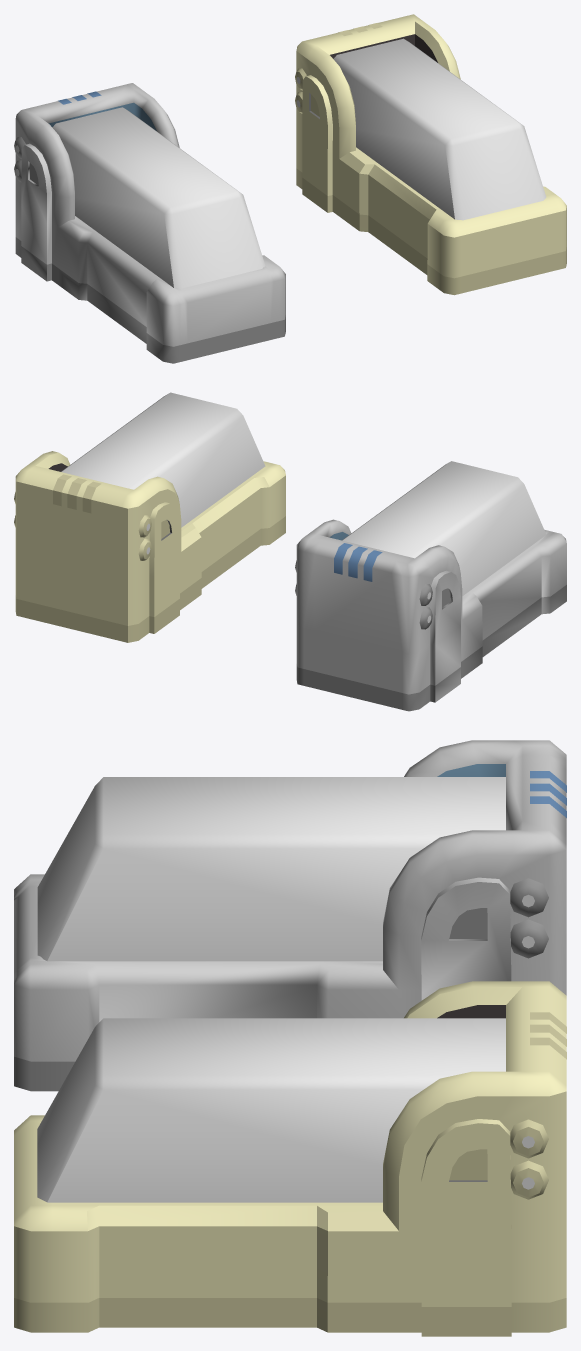
File: SleeperBed.fbx
3 renders of one model, top to bottom at view 1: azimuth 30°, elevation 25°; view 2: azimuth 150°, elevation 25°; view 3: azimuth 270°, elevation 25°, orthographic. The views are drawn at different scales.
Parts seen in each view (by area): view 1: SleeperBlue, SleeperGreen, SleeperGreenCover, SleeperBlueCover; view 2: SleeperGreen, SleeperBlue, SleeperGreenCover, SleeperBlueCover; view 3: SleeperGreen, SleeperGreenCover, SleeperBlueCover, SleeperBlue.
Boxes of the visible parts, left/top/right/bottom form: SleeperBlue: left=14, top=83, right=285, bottom=363; SleeperGreen: left=295, top=14, right=566, bottom=295; SleeperGreenCover: left=333, top=38, right=546, bottom=220; SleeperBlueCover: left=52, top=107, right=265, bottom=288; SleeperGreen: left=14, top=451, right=285, bottom=642; SleeperBlue: left=295, top=519, right=566, bottom=711; SleeperGreenCover: left=61, top=392, right=265, bottom=527; SleeperBlueCover: left=342, top=461, right=546, bottom=595; SleeperGreen: left=14, top=981, right=566, bottom=1336; SleeperGreenCover: left=37, top=1018, right=505, bottom=1202; SleeperBlueCover: left=37, top=777, right=505, bottom=961; SleeperBlue: left=14, top=740, right=566, bottom=1091.
Bounding box in the file's own units: 2.95 × 0.9706 × 1.94.
